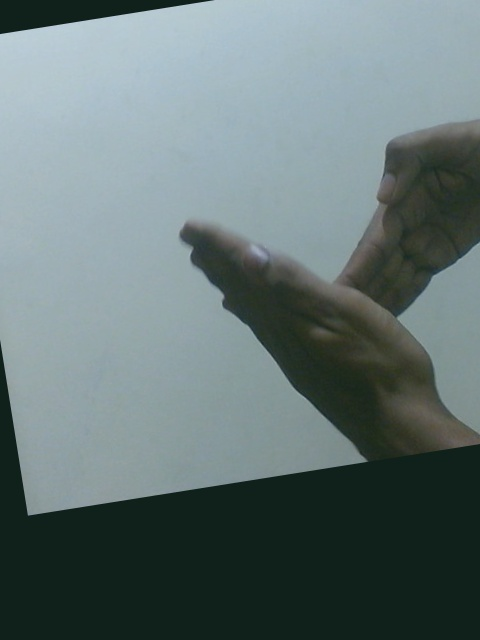hand: (178, 218, 453, 432), (323, 118, 480, 319)
